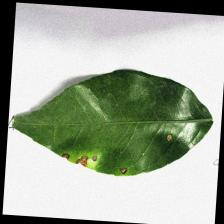canker: (54, 144, 130, 176)
